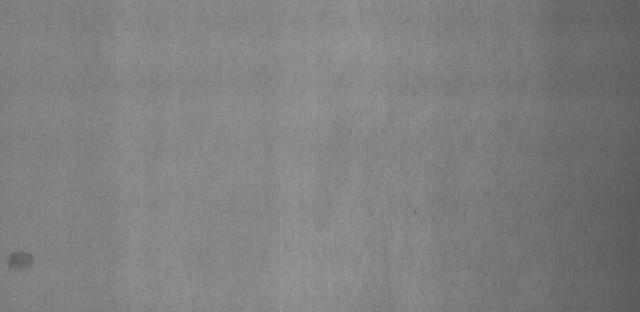oil_spot: (6, 246, 37, 278)
